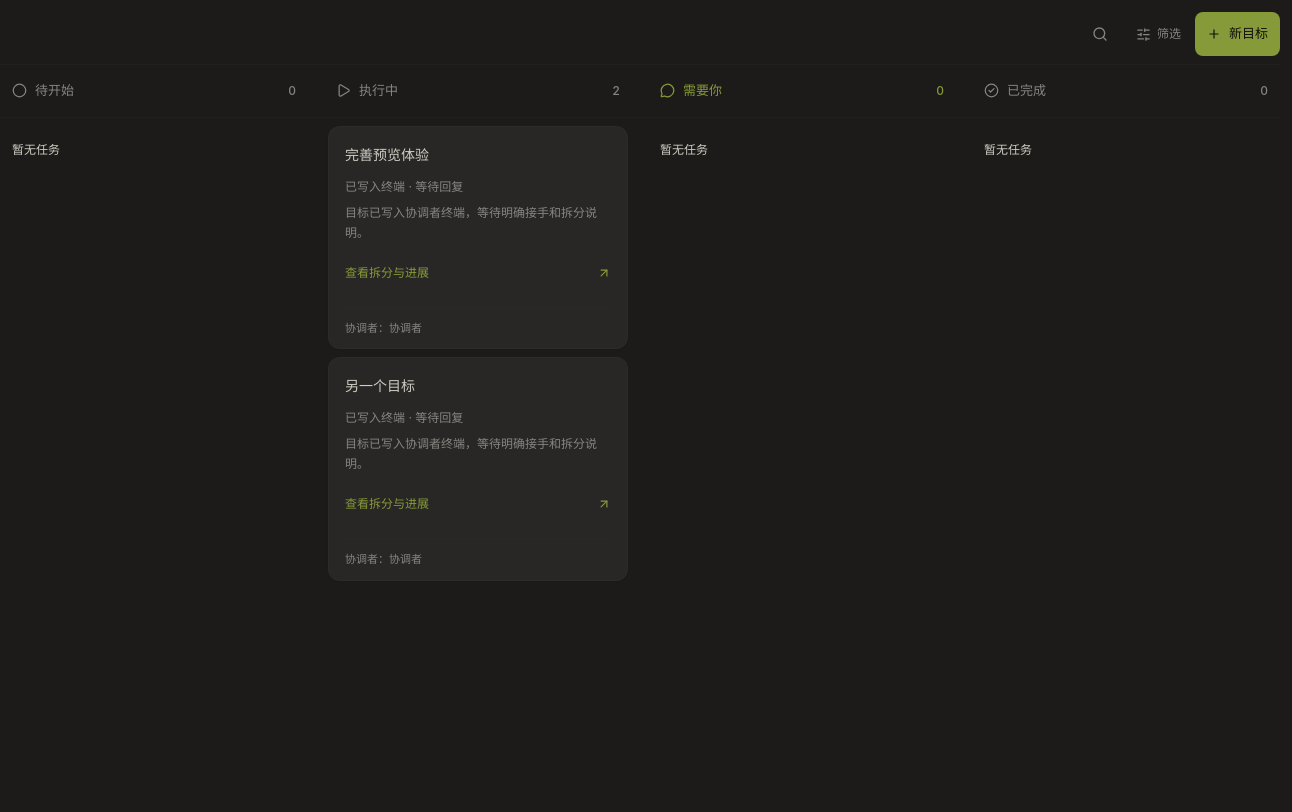
Test: primary kanban journeys › keeps filter choices explicit, shows the applied count and preserves them after closing
Click the button with aria-label "筛选任务".
click(1158, 34)  # box [1128,12,1189,56]
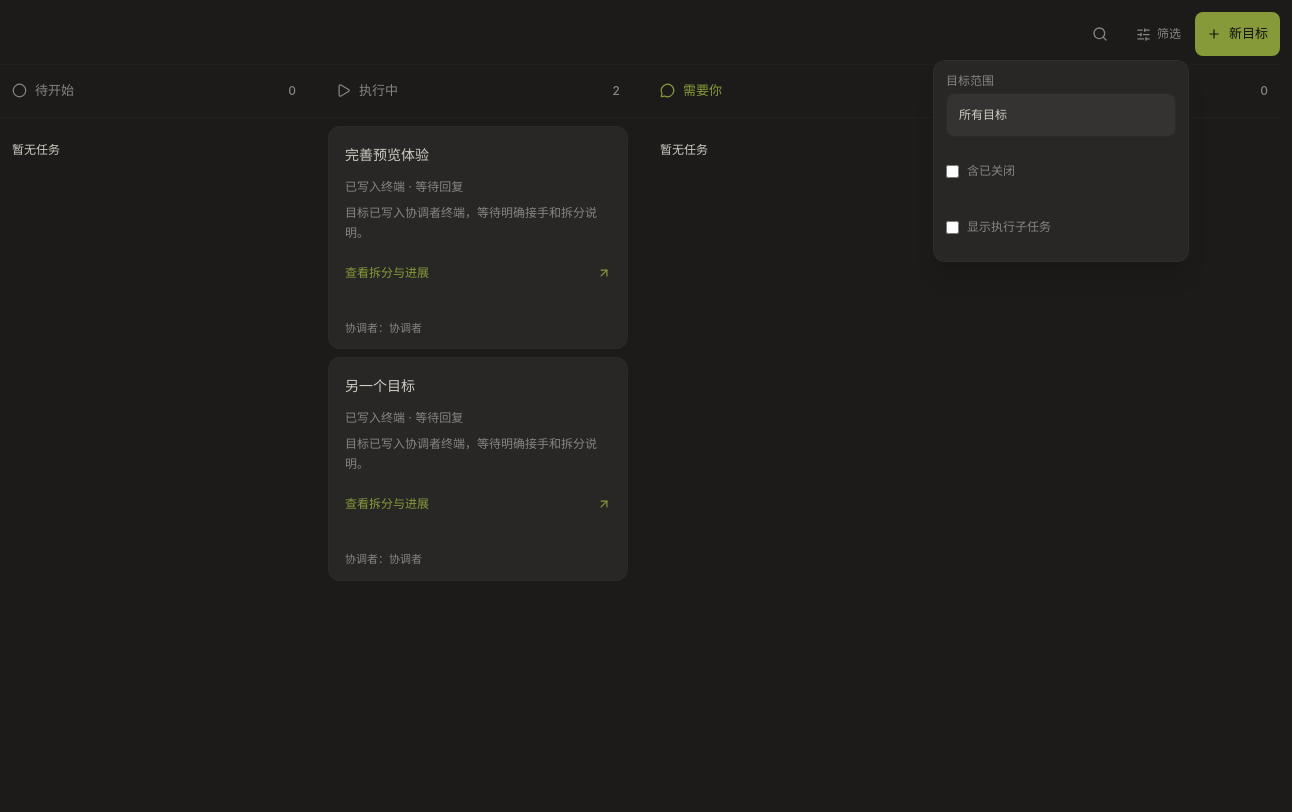
Select "完善预览体验" in the dropdown named "按目标查看" at (1061, 115), box [946,93,1176,137]
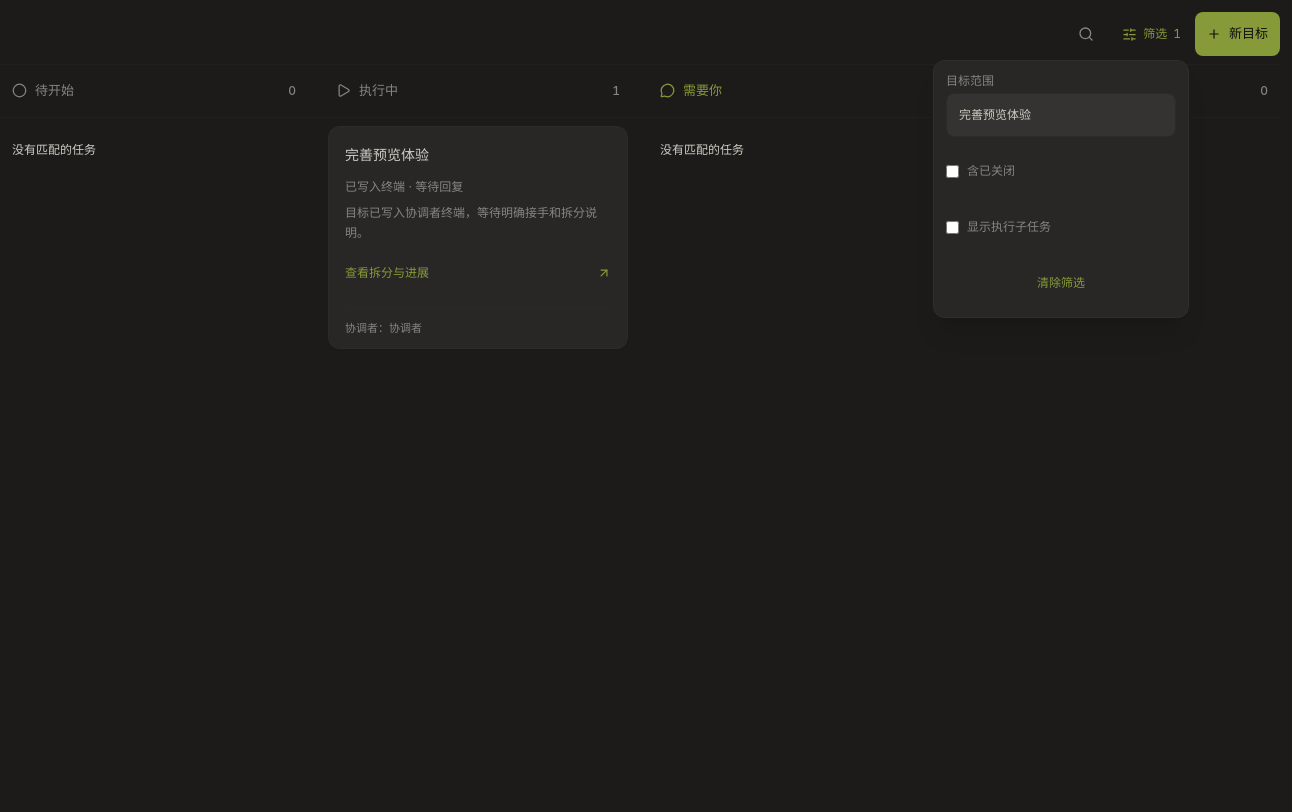
Result: the button "另一个目标" is gone
Press Escape
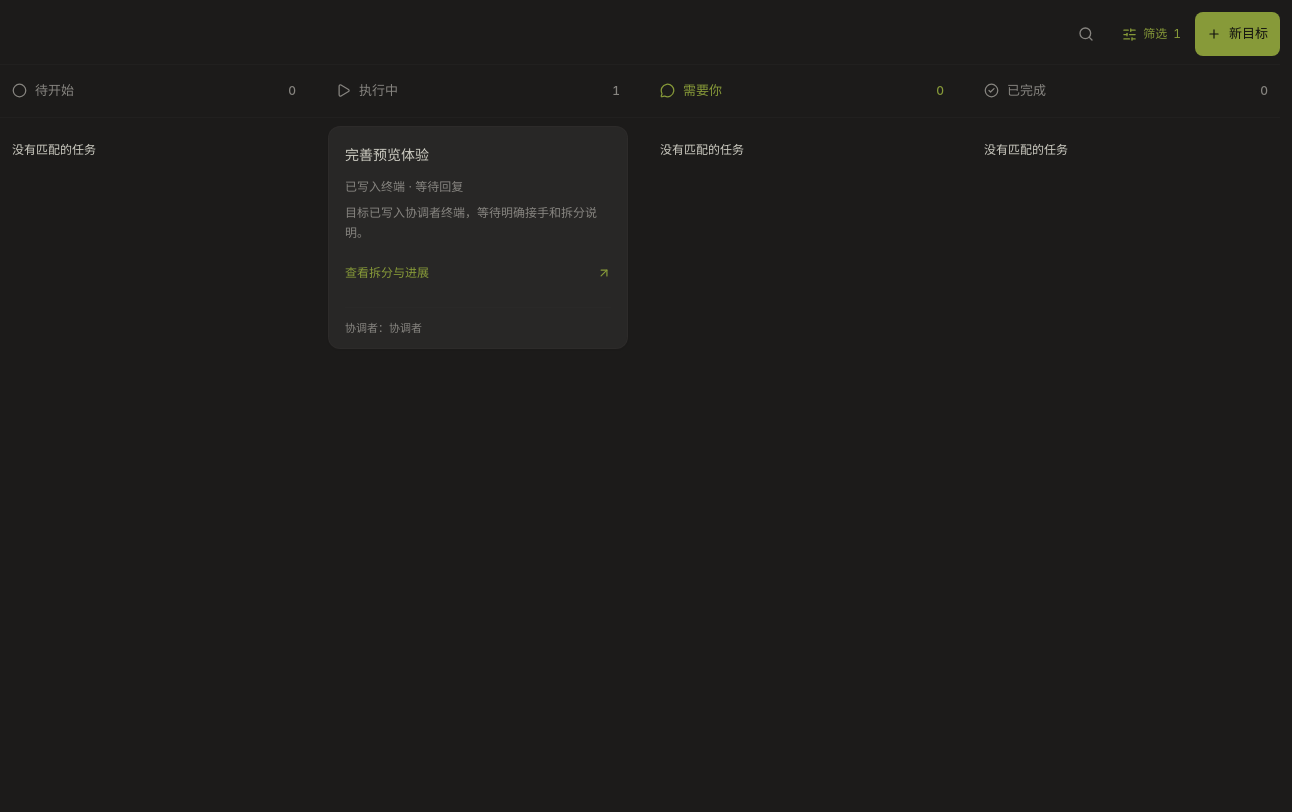
Result: the dropdown labelled "按目标查看" is gone
Click the button with aria-label "筛选任务，1 项已启用".
click(1152, 34)  # box [1114,12,1189,56]
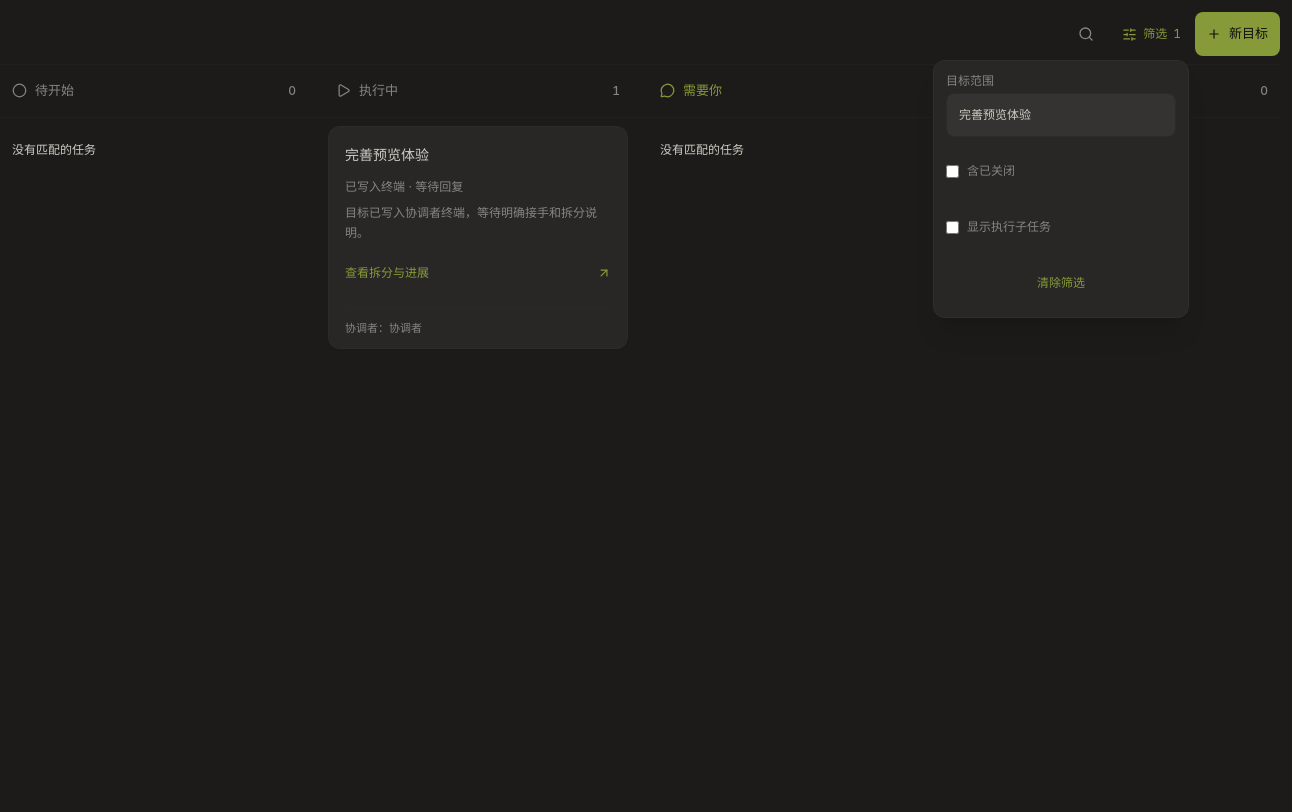
Result: the dropdown named "按目标查看" shows "完善预览体验" at [946,93,1176,137]
Click the button "清除筛选".
click(1061, 283)  # box [946,261,1176,305]
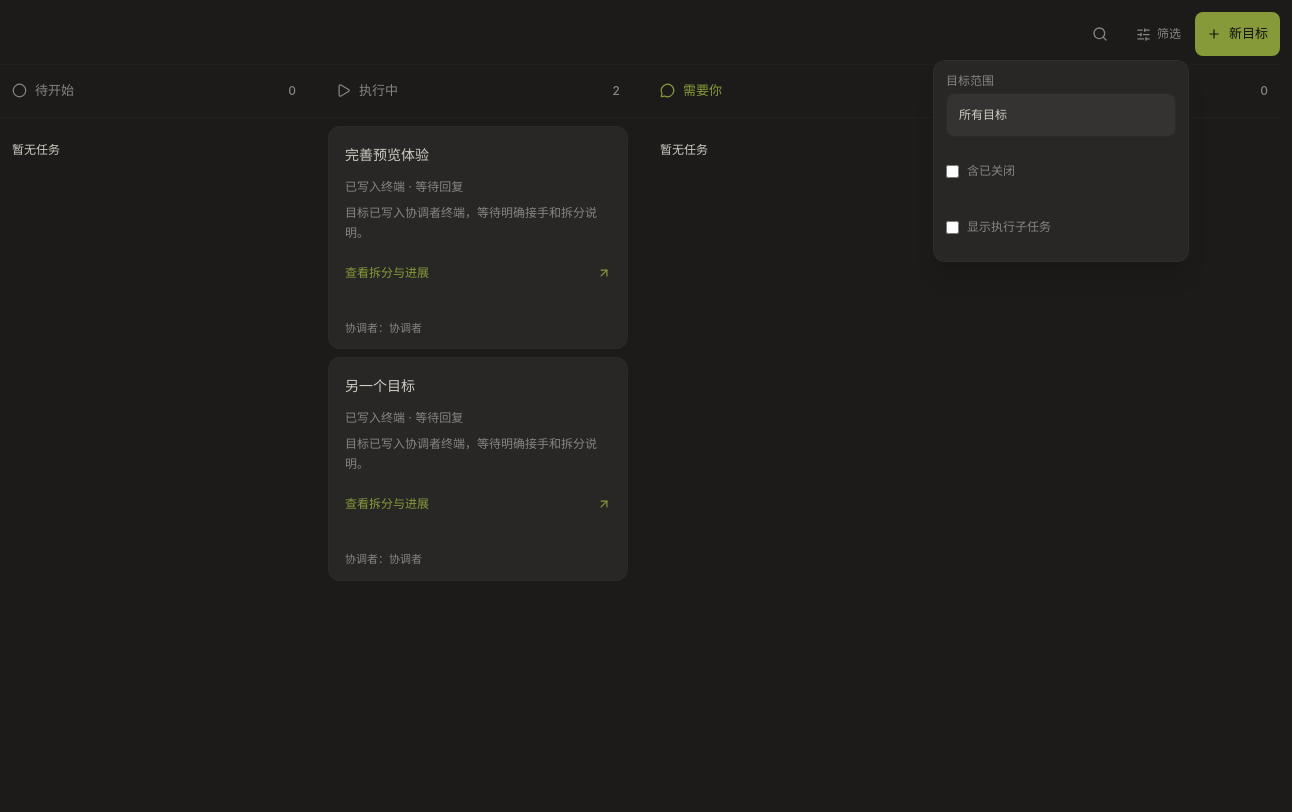
Expected: the button with aria-label "筛选任务" is shown, [1128,12,1189,56]
Result: the button "另一个目标 已写入终端 · 等待回复 目标已写入协调者终端，等待明确接手和拆分说明。 查看拆分与进展" is shown at [329,358,627,538]
